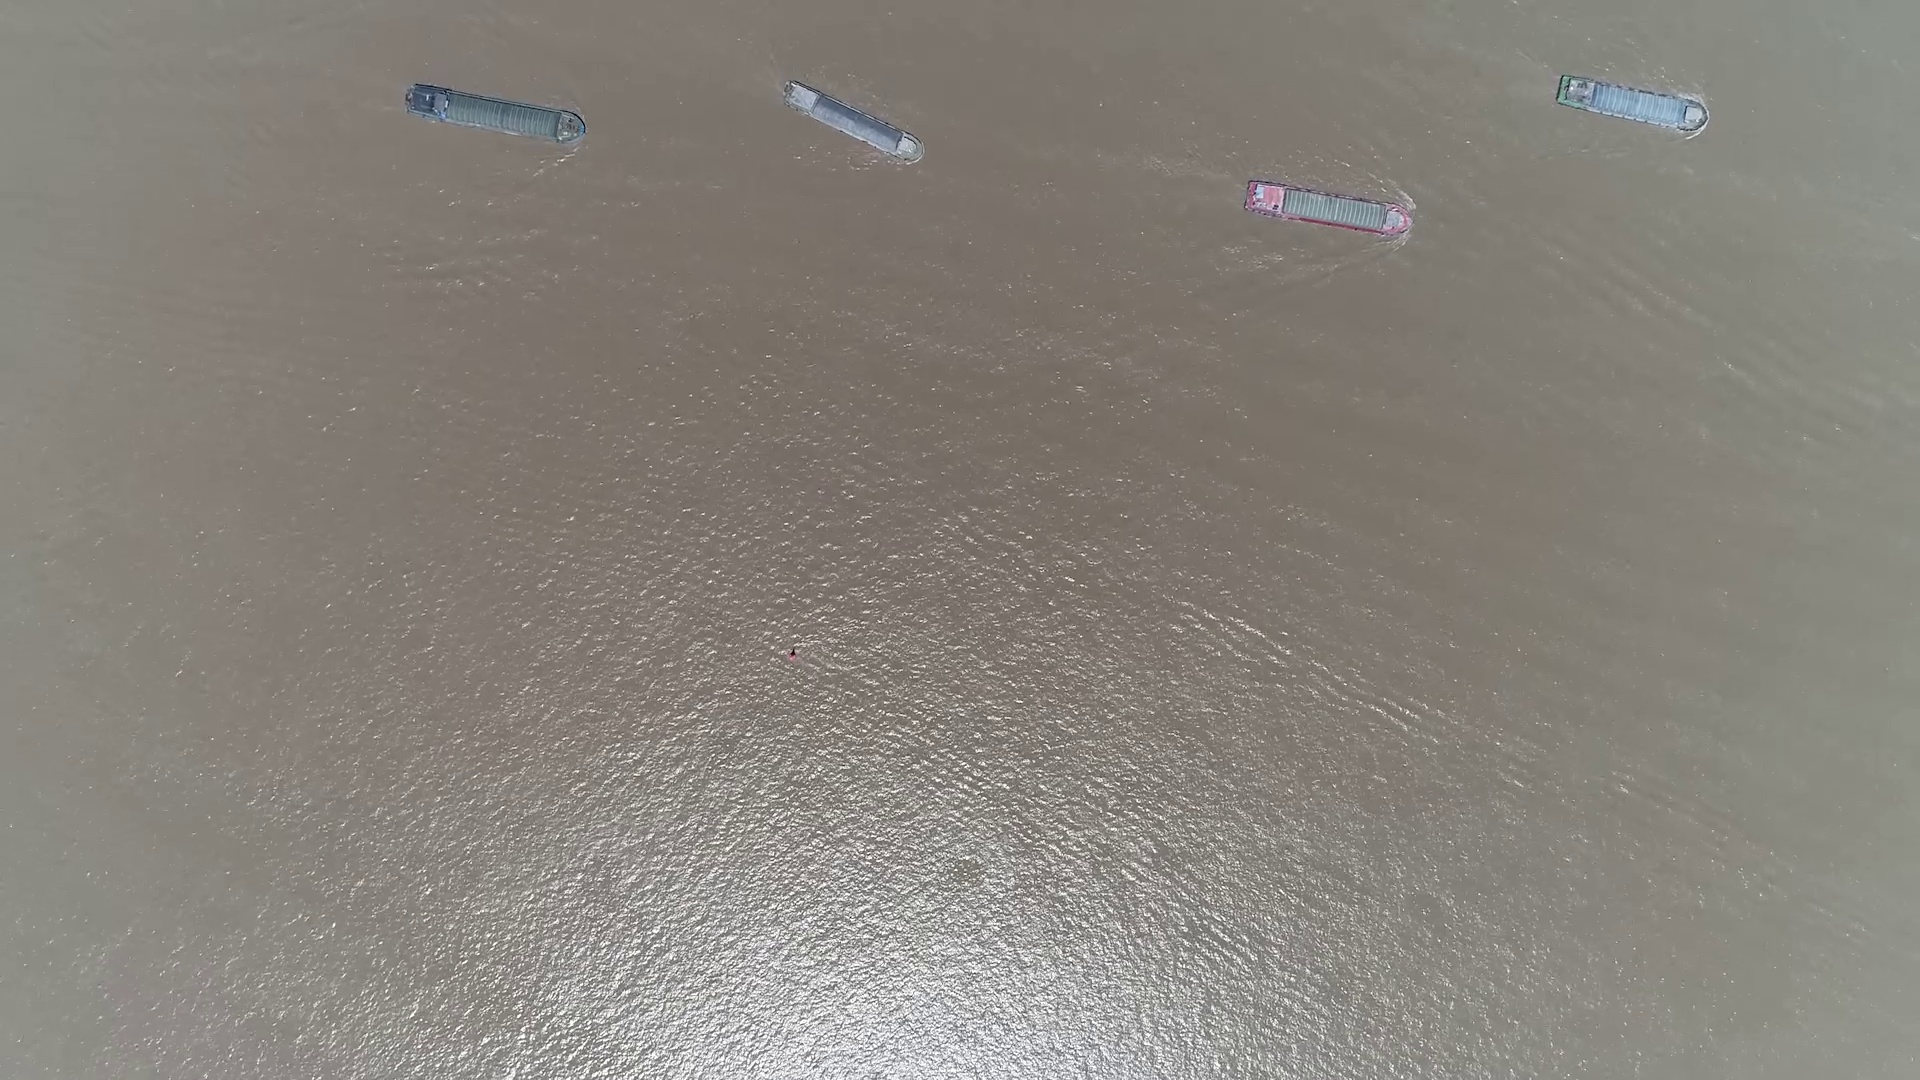ship: (404, 83, 587, 145), (782, 84, 920, 161), (1242, 179, 1414, 237), (1556, 76, 1706, 132)
